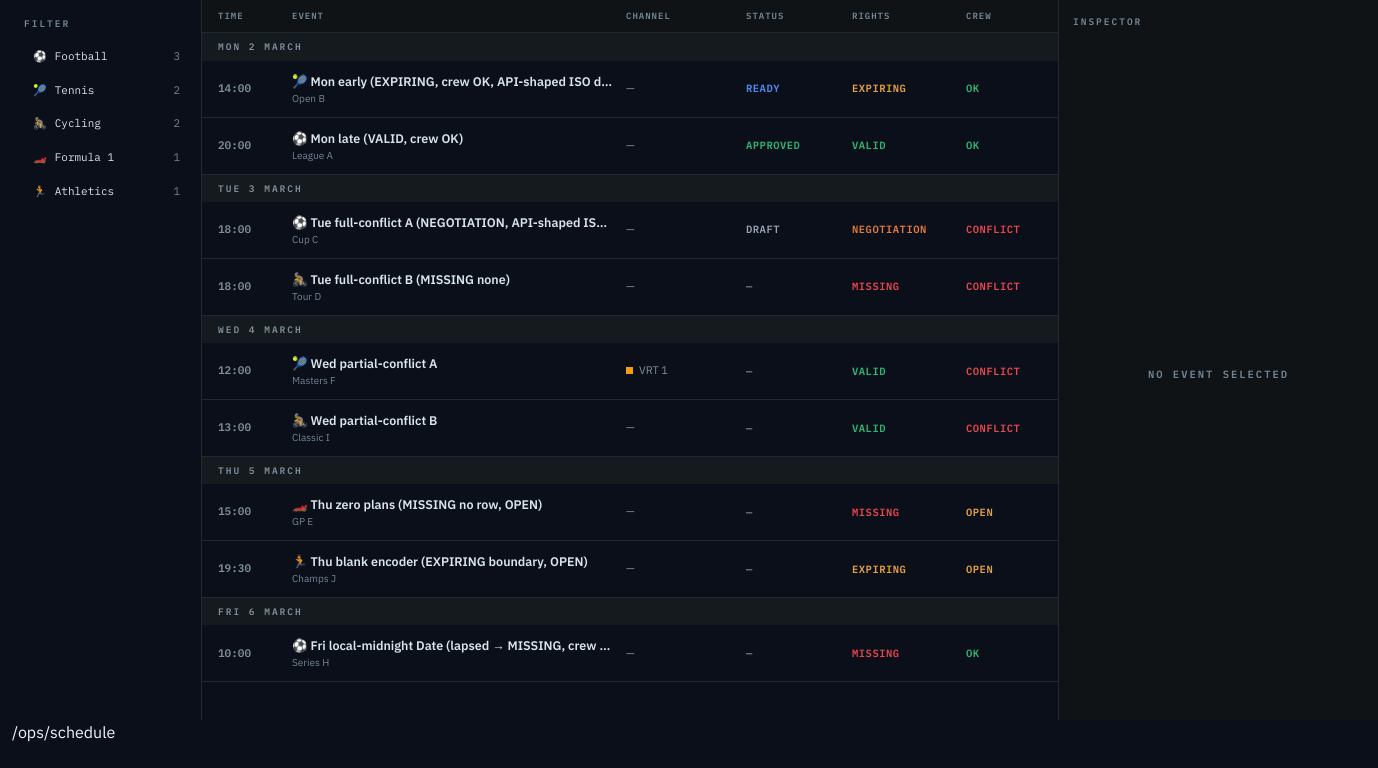
inspector integration (A-4-T1) › selection changes update the inspector WITHOUT refetch or state loss (AC pin: no remount)
expect the text "MON 2 MARCH" is shown: met, box [202,33,1058,61]
establish screen-local state that a remount would lose
Click the button "⚽ Football 3" at (106, 57), box [24,41,189,73]
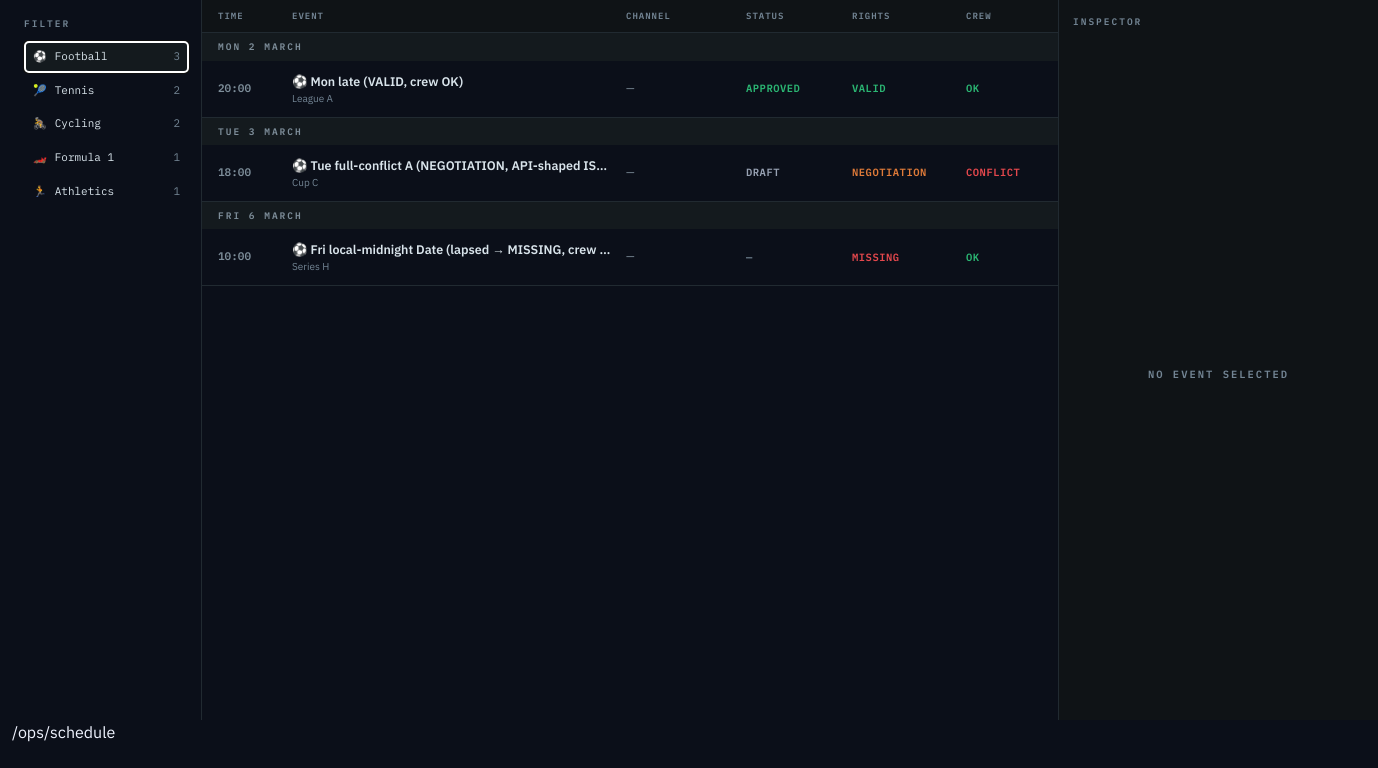
Click the button with test id "ops-schedule-row-1" at (630, 89), box [202,61,1058,118]
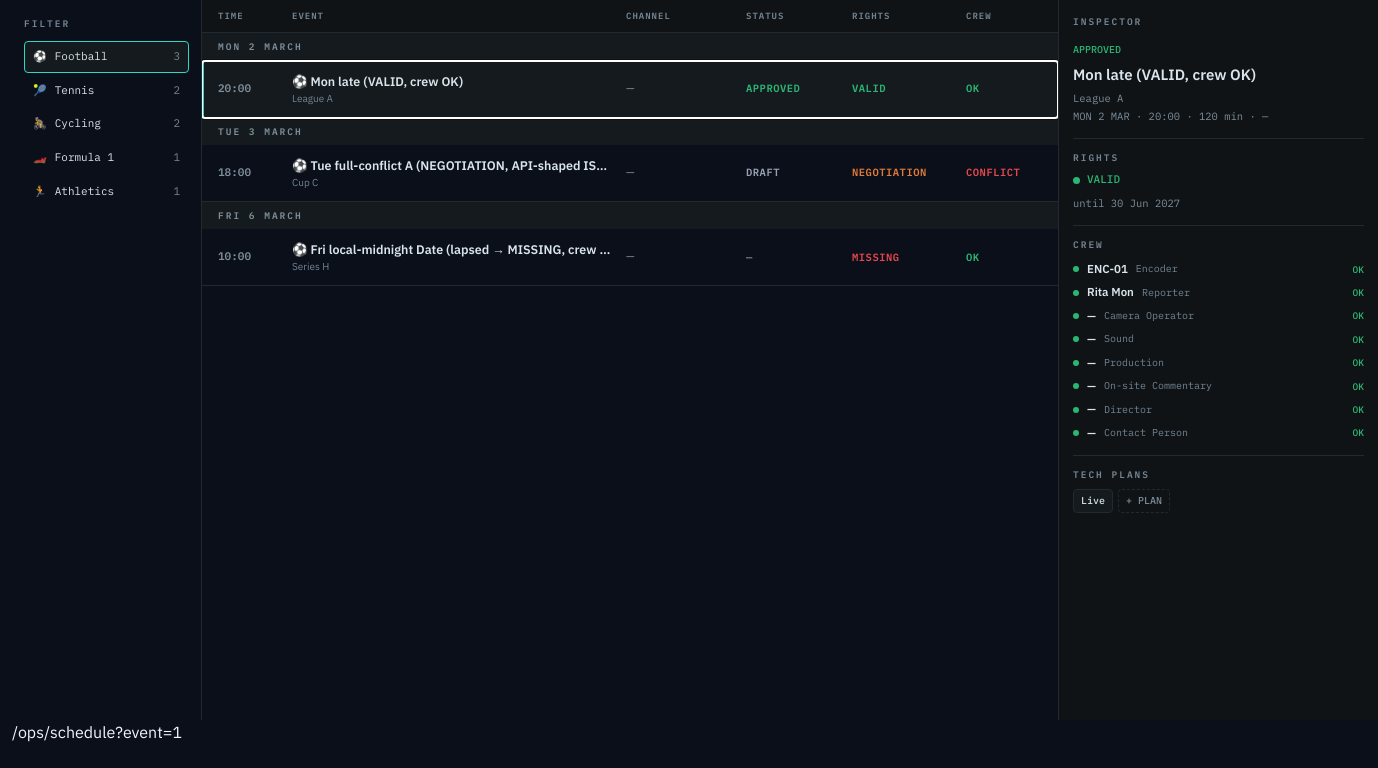
expect the text with test id "ops-inspector-title" reads "Mon late (VALID, crew OK)": met, box [1073,65,1256,84]
Click the 6th button at (630, 173), box [202,145,1058,202]
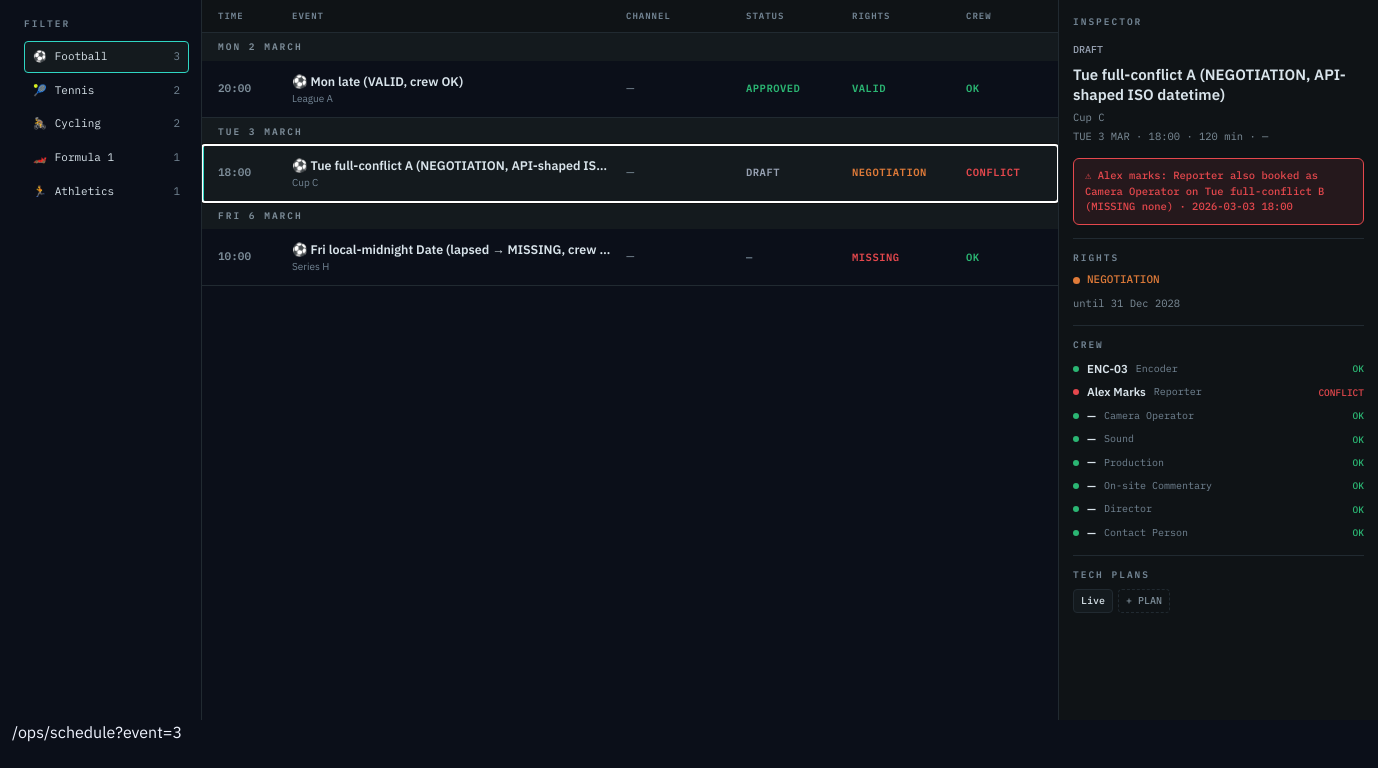
expect the text with test id "ops-inspector-title" reads "Tue full-conflict A (NEGOTIATION, API-shaped ISO datetime)": met, box [1073,65,1346,104]
